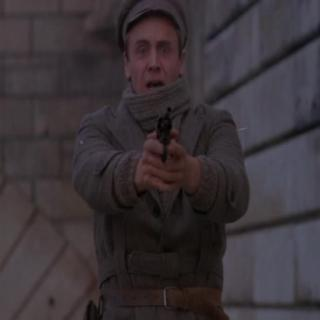gun: (141, 100, 192, 186)
